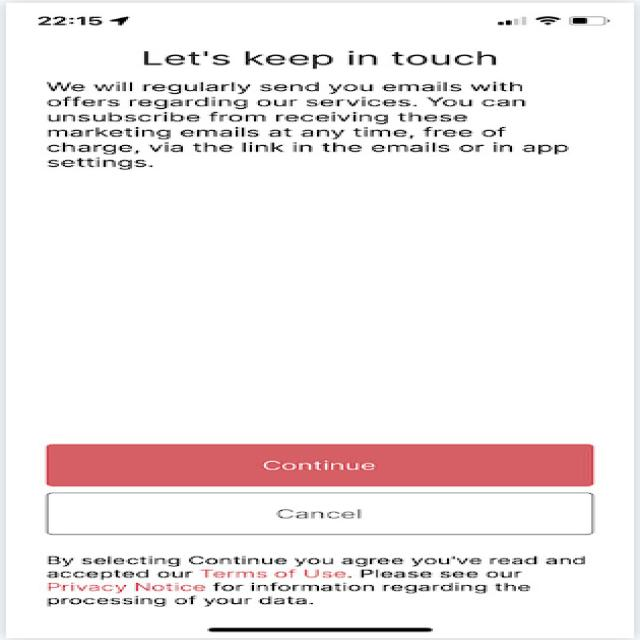button: (15, 439, 612, 490), (15, 489, 616, 539)
spacer: (26, 186, 598, 435)
text: (15, 39, 623, 182), (21, 546, 607, 614)
